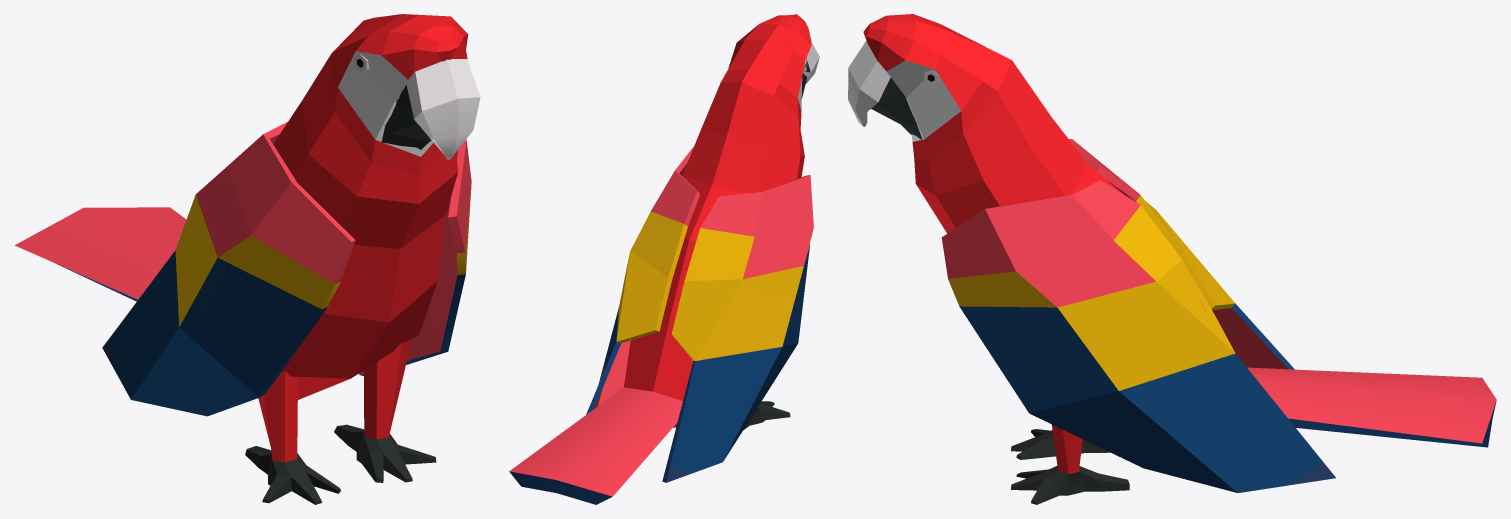
The model's file is parrot.glb.
3 views of the same model, side by side, from view 1: azimuth 30°, elevation 25°; view 2: azimuth 150°, elevation 25°; view 3: azimuth 270°, elevation 25° (orthographic). The views are drawn at different scales.
Visible parts, largest first — view 1: Geo_Parrot; view 2: Geo_Parrot; view 3: Geo_Parrot.
Boxes of the visible parts, x1,y1,x2,y2 form: Geo_Parrot: (14,14,480,504); Geo_Parrot: (509,14,819,504); Geo_Parrot: (848,14,1496,504).
Bounding box in the file's own units: 0.173 × 0.35 × 0.4573.
1 material, 1 textured.
